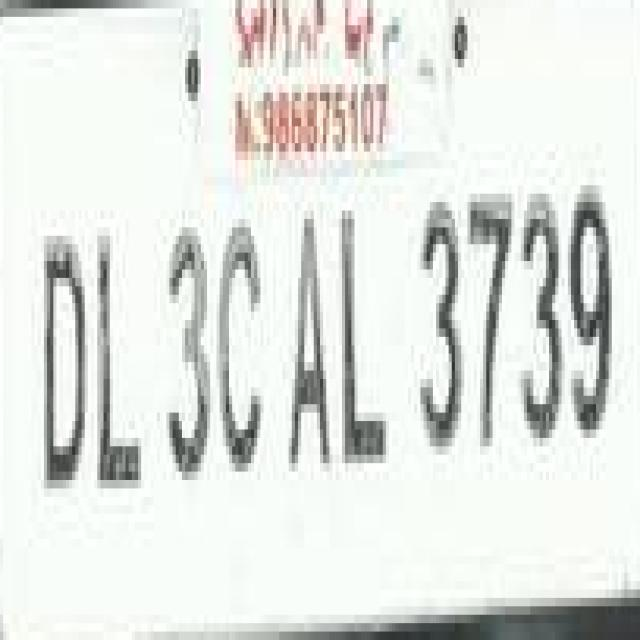license_plate: (0, 109, 627, 623)
